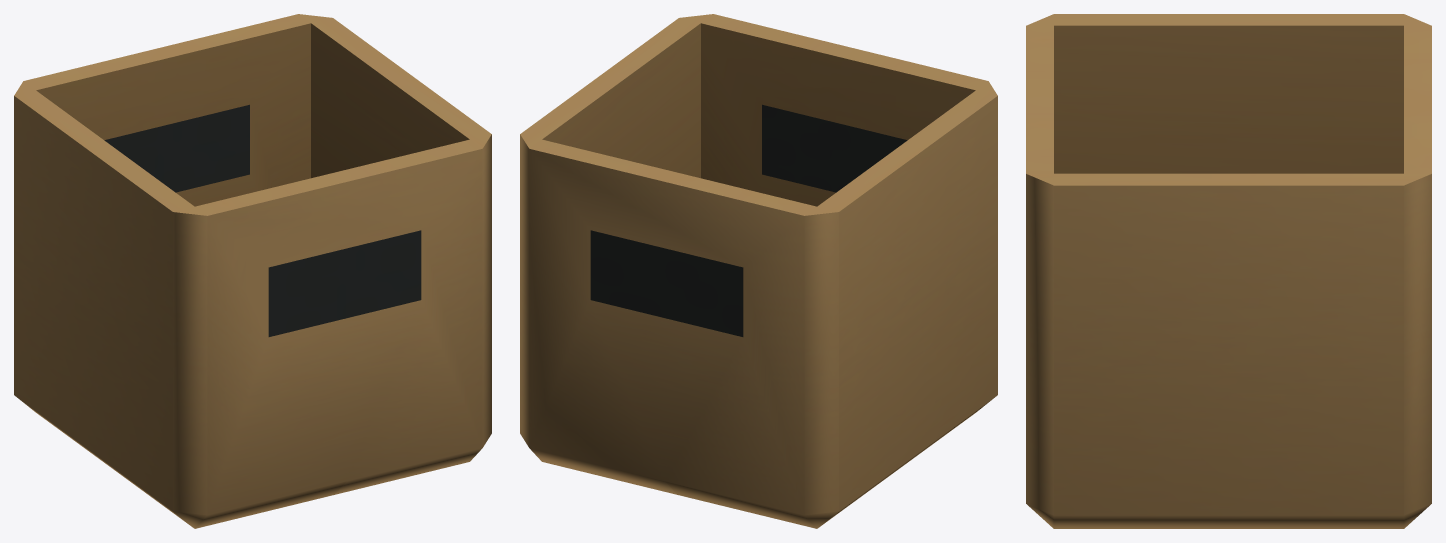
Rendered from box_cardboard_square_open_handle.fbx.
3 renders of one model, left to right at view 1: azimuth 30°, elevation 25°; view 2: azimuth 150°, elevation 25°; view 3: azimuth 270°, elevation 25°, orthographic. The views are drawn at different scales.
Parts seen in each view (by area): view 1: box_cardboard_square_open_handle; view 2: box_cardboard_square_open_handle; view 3: box_cardboard_square_open_handle.
Part boxes in pixels (bbox=[...]): box_cardboard_square_open_handle: bbox=[14, 14, 491, 528]; box_cardboard_square_open_handle: bbox=[520, 14, 997, 528]; box_cardboard_square_open_handle: bbox=[1026, 14, 1431, 528].
Bounding box in the file's own units: 53.69 × 51.84 × 53.69.
